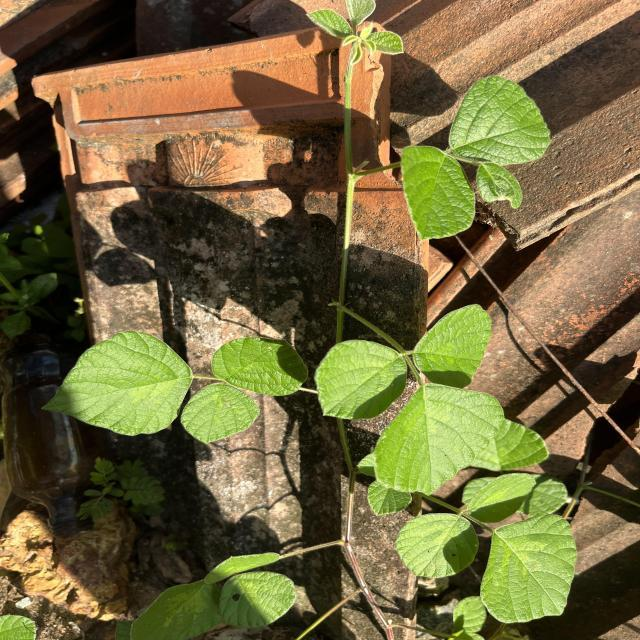Pseudarthria viscida: (312, 302, 507, 496), (39, 328, 310, 446), (393, 470, 578, 624)
